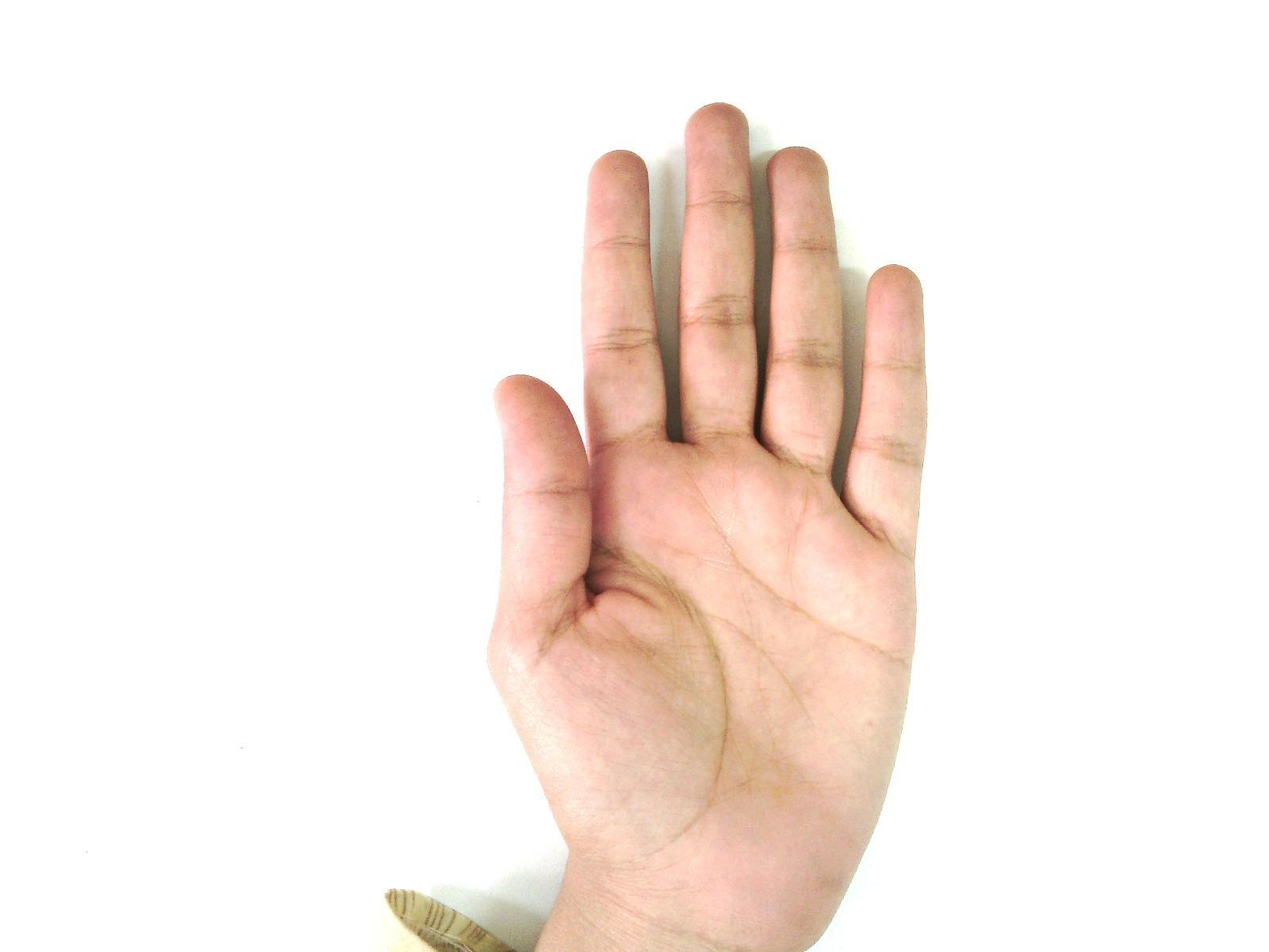open_palm: (484, 100, 931, 949)
